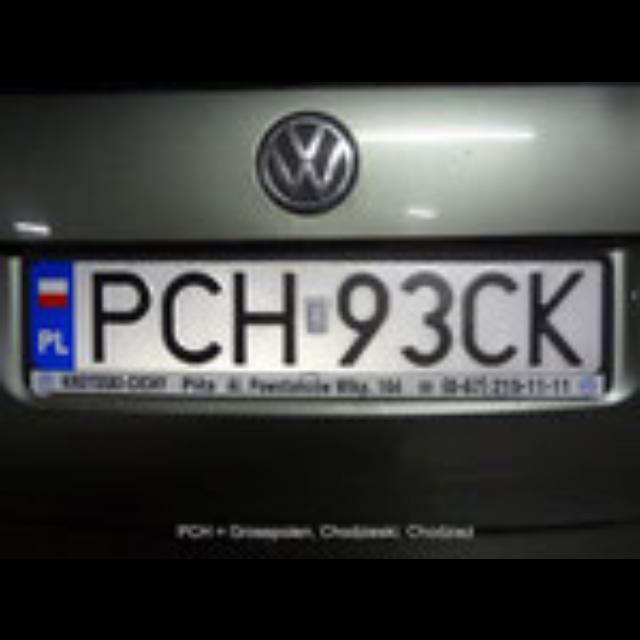pl_license_plate: (21, 256, 597, 366)
